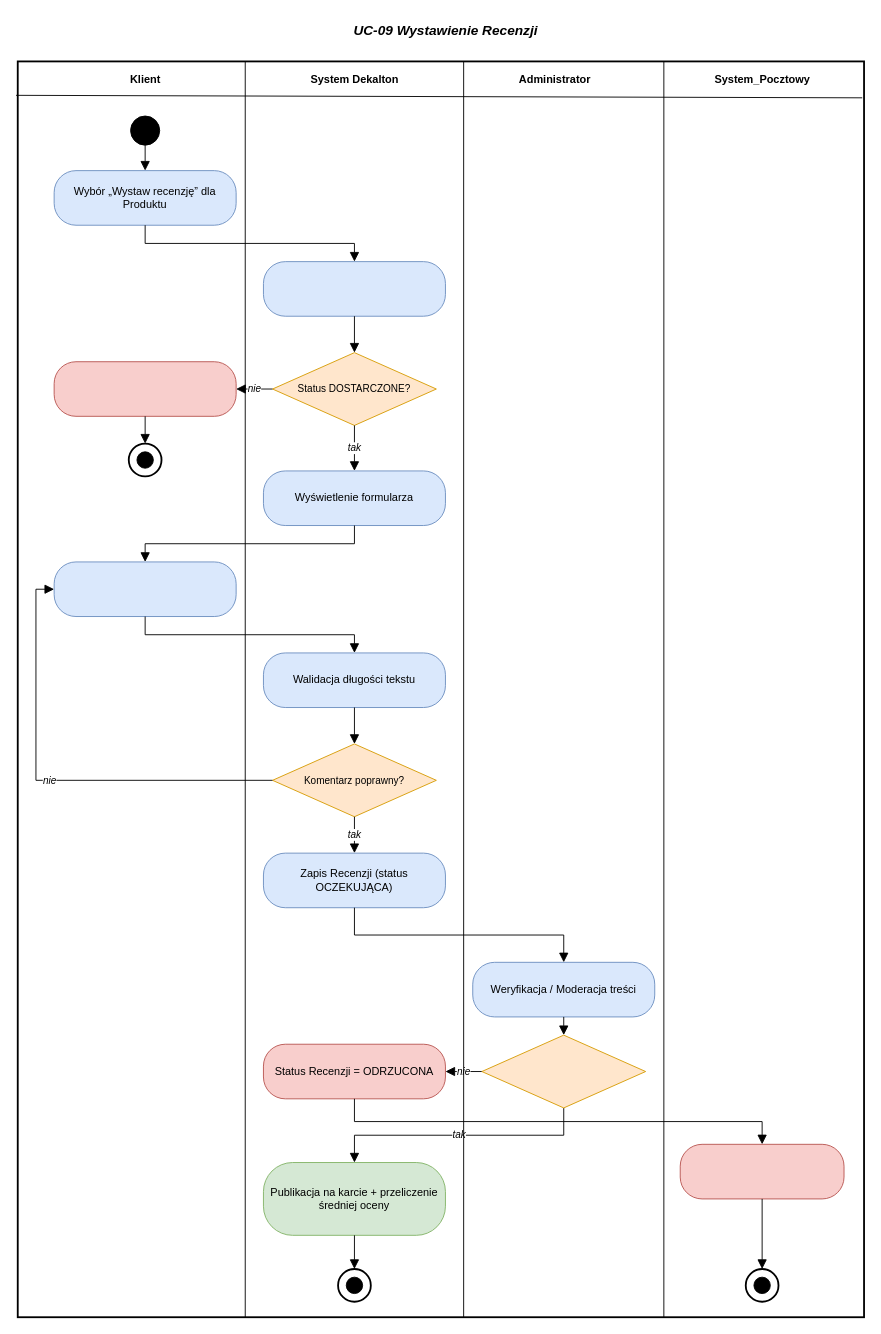
Some shapes in this 881 by 1334 pixel diagram are drawn without their labels. Each missing label, with the centre of its shape:
E-mail z uzasadnieniem: point 761,1171
Komunikat o braku uprawnień: point 144,388
Recenzja zatwierdzona?: point 563,1071
Sprawdzenie uprawnień: point 354,288
Wprowadzenie oceny (1–5) i komentarza: point 144,589
